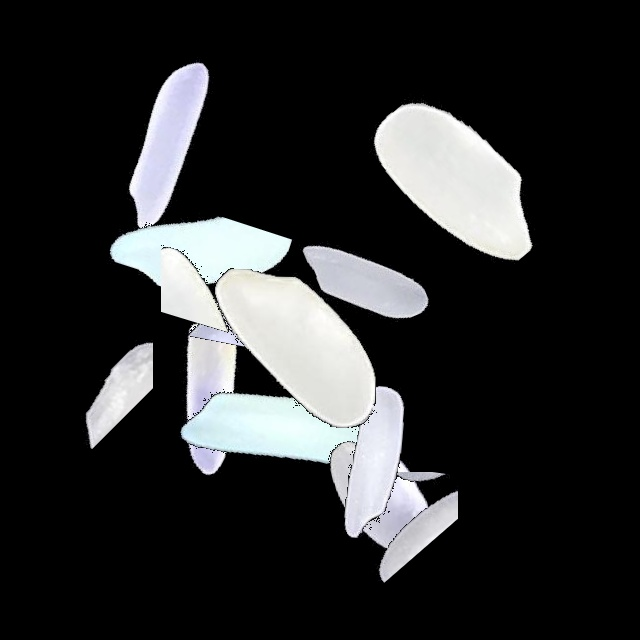Broken: (339, 342, 500, 592), (63, 210, 313, 367), (24, 236, 153, 486), (173, 159, 290, 409), (343, 367, 458, 617), (161, 146, 269, 396), (241, 262, 329, 512), (304, 472, 554, 550)
Full: (335, 55, 585, 305), (44, 16, 294, 266), (240, 152, 490, 402), (87, 261, 337, 511), (164, 304, 414, 554), (254, 368, 504, 618), (168, 224, 418, 474)
